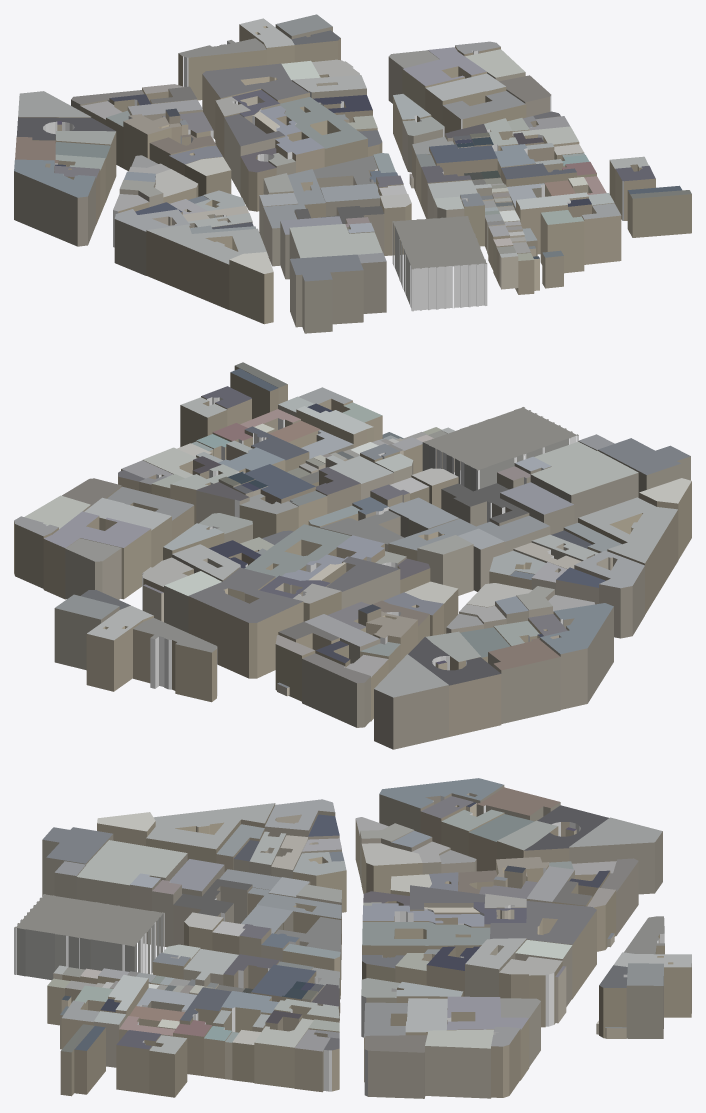
3 renders of one model, top to bottom at view 1: azimuth 30°, elevation 25°; view 2: azimuth 150°, elevation 25°; view 3: azimuth 270°, elevation 25°, orthographic. The views are drawn at different scales.
Visible parts, largest first — view 1: tuile; view 2: tuile; view 3: tuile.
Part boxes in pixels (<box>): tuile: <box>14,14,691,333</box>; tuile: <box>14,362,691,749</box>; tuile: <box>14,778,691,1098</box>.
Bounding box in the file's own units: 264 × 36.43 × 282.
